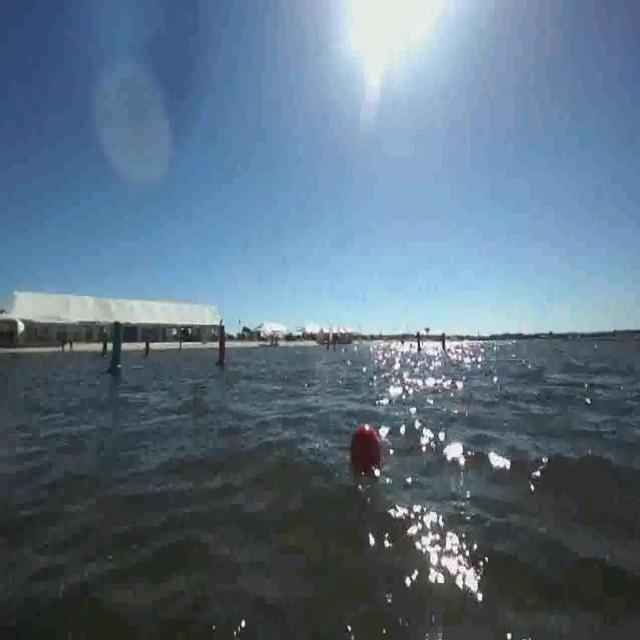green-column-buoy: (106, 320, 127, 374), (100, 329, 108, 358)
red-buoy: (349, 422, 379, 474)
red-column-buoy: (215, 329, 229, 368), (143, 336, 152, 359)
